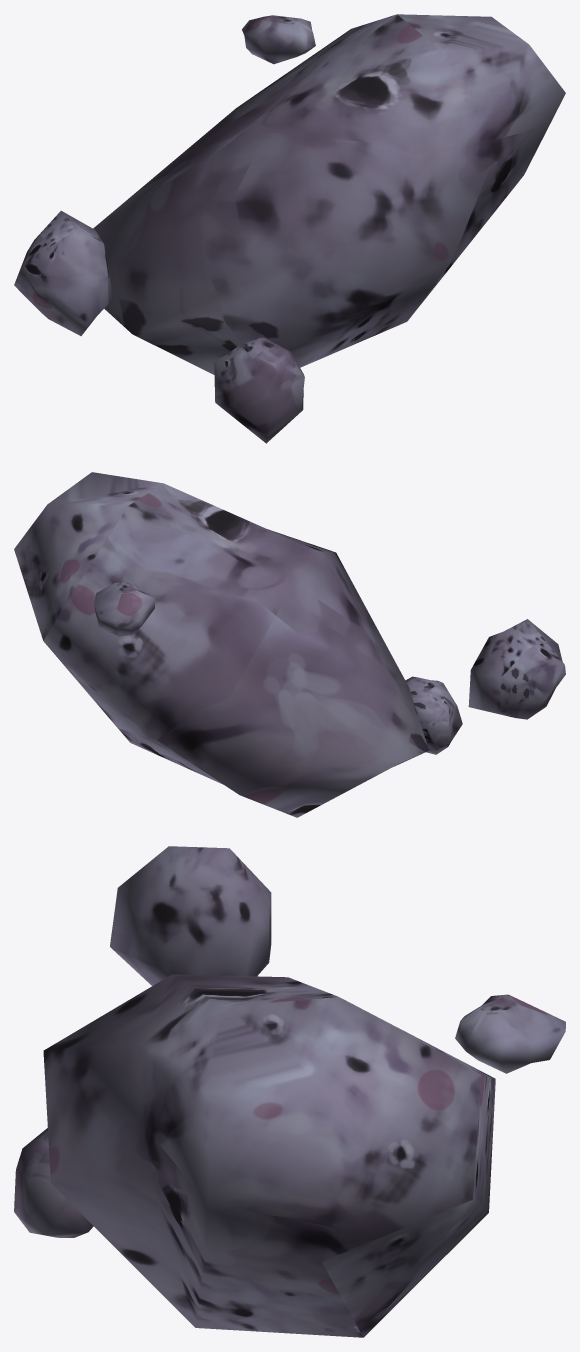
Rendered from asteroids-decoration.fbx.
The picture shows the model from 3 angles, top to bottom: view 1: azimuth 30°, elevation 25°; view 2: azimuth 150°, elevation 25°; view 3: azimuth 270°, elevation 25°; orthographic projection. The views are drawn at different scales.
Visible parts, largest first — view 1: pCube4, pCube6, pCube5, pCube7; view 2: pCube4, pCube6, pCube5, pCube7; view 3: pCube4, pCube6, pCube7, pCube5.
Part boxes in pixels (<box>): pCube4: <box>93,14,565,374</box>; pCube6: <box>14,210,112,335</box>; pCube5: <box>214,337,304,443</box>; pCube7: <box>242,15,315,64</box>; pCube4: <box>14,472,428,817</box>; pCube6: <box>468,619,565,719</box>; pCube5: <box>405,676,462,754</box>; pCube7: <box>94,582,154,636</box>; pCube4: <box>43,974,495,1337</box>; pCube6: <box>110,846,271,985</box>; pCube7: <box>455,994,565,1073</box>; pCube5: <box>14,1128,93,1237</box>.
Bounding box in the file's own units: 1876 × 977 × 1161.
1 material, 1 textured.
